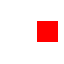square: (37, 21, 57, 41)
